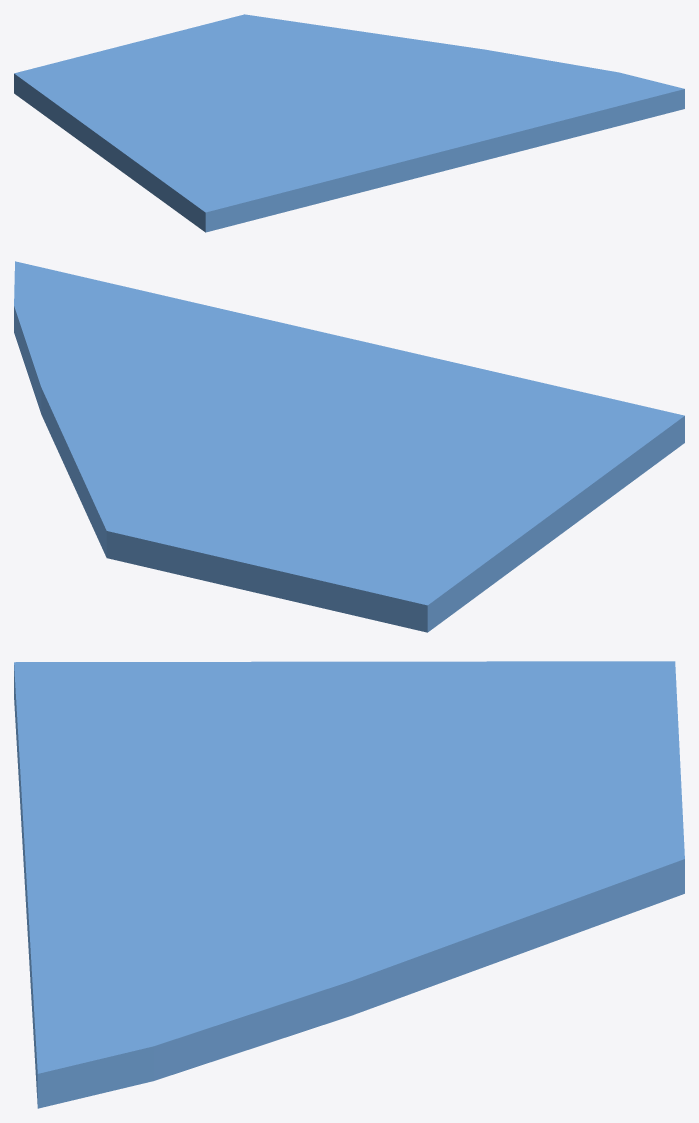
The picture shows the model from 3 angles, top to bottom: view 1: azimuth 30°, elevation 25°; view 2: azimuth 150°, elevation 25°; view 3: azimuth 270°, elevation 25°; orthographic projection. The views are drawn at different scales.
Bounding box in the file's own units: 77.54 × 3.05 × 53.28.
